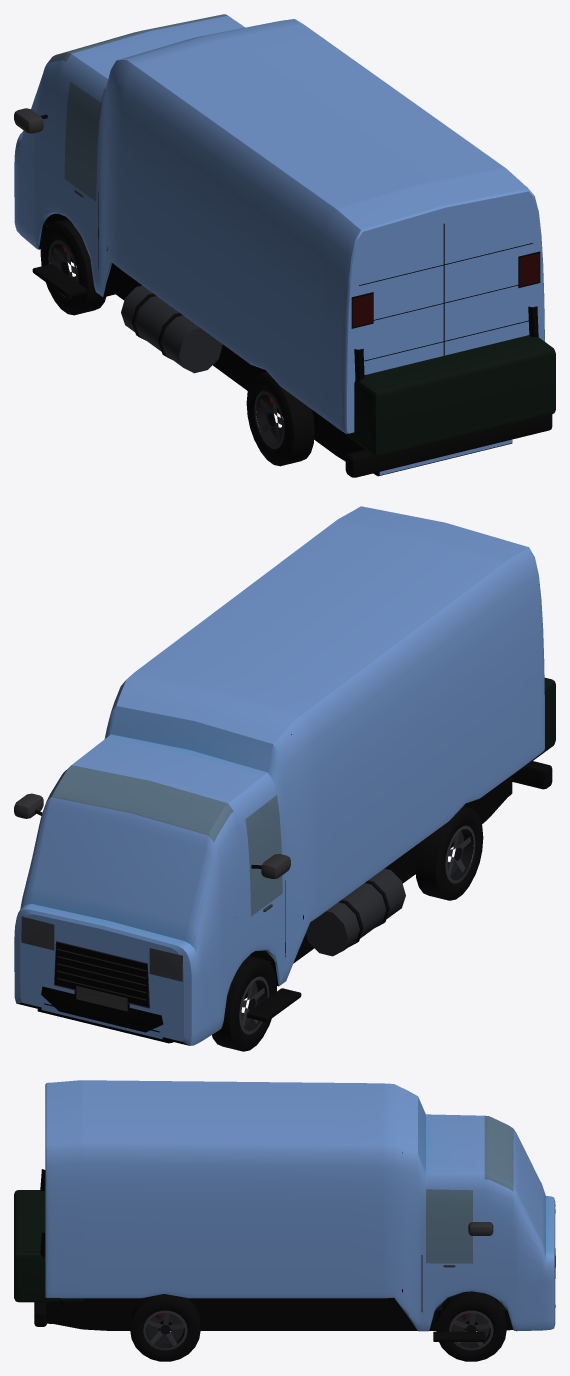
Rendered from cv2_garbage.glb.
3 renders of one model, top to bottom at view 1: azimuth 30°, elevation 25°; view 2: azimuth 150°, elevation 25°; view 3: azimuth 270°, elevation 25°, orthographic. The views are drawn at different scales.
Visible parts, largest first — view 1: Body, DoorL_Mesh; view 2: Body, DoorL_Mesh; view 3: Body, DoorR_Mesh.
Boxes of the visible parts, x1,y1,x2,y2 form: Body: (14,14,555,477); DoorL_Mesh: (48,75,101,287); Body: (14,506,555,1051); DoorL_Mesh: (231,793,285,981); Body: (14,1080,555,1361); DoorR_Mesh: (422,1190,496,1316).
Size of what is drawn, in the model's own units: 2.89 by 3.09 by 6.91.
